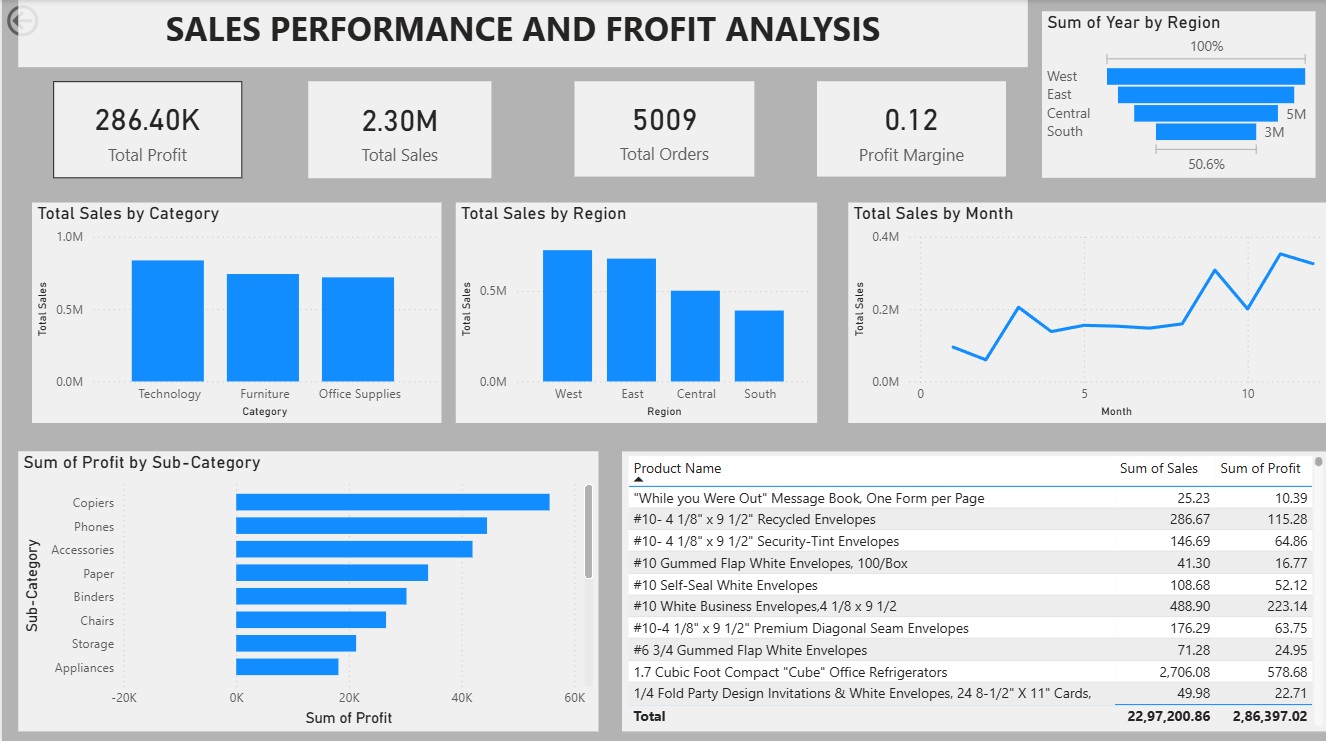

The dashboard page shown, as its layout file describes it:
{"tool":"powerbi","page":{"name":"Page 1","canvas":[1280,720],"ordinal":0},"visuals":[{"type":"actionButton","box":[0,0,100,40],"z":0},{"type":"card","fields":{"Values":["Sum(cleaned_superstore.Profit)"]},"box":[49.4,78.2,182.5,93.3],"z":1000},{"type":"card","fields":{"Values":["cleaned_superstore.Profit Margine"]},"box":[786.3,78.2,182.5,91.9],"z":2000},{"type":"card","fields":{"Values":["cleaned_superstore.Total Sales"]},"box":[295,78.2,177,93.3],"z":3000},{"type":"card","fields":{"Values":["cleaned_superstore.Total Orders"]},"box":[552.5,78.4,173.7,91.7],"z":4000},{"type":"lineChart","fields":{"Category":["cleaned_superstore.Month"],"Y":["cleaned_superstore.Total Sales"]},"box":[816.5,194.9,463.8,212.7],"z":5000},{"type":"clusteredColumnChart","fields":{"Y":["cleaned_superstore.Total Sales"],"Category":["cleaned_superstore.Category"]},"box":[28.8,194.9,395.2,212.7],"z":6000},{"type":"clusteredBarChart","fields":{"Category":["cleaned_superstore.Sub-Category"],"Y":["Sum(cleaned_superstore.Profit)"]},"box":[15.1,435,559.9,270.3],"z":7000},{"type":"clusteredColumnChart","fields":{"Category":["cleaned_superstore.Region"],"Y":["cleaned_superstore.Total Sales"]},"box":[437.7,194.9,348.5,212.7],"z":8000},{"type":"tableEx","fields":{"Values":["cleaned_superstore.Product Name","Sum(cleaned_superstore.Sales)","Sum(cleaned_superstore.Profit)"]},"box":[598.3,435,682,270.3],"z":9000},{"type":"funnel","fields":{"Y":["Sum(cleaned_superstore.Year)"],"Category":["cleaned_superstore.Region","cleaned_superstore.Category"]},"box":[1003.8,10.9,264.2,160.5],"z":10000},{"type":"textbox","box":[15.1,0,974.3,64.5],"z":11000}]}

Visuals, with their boxes in screenshot pixels (x1, y1, x2, y2), scaled from the page's 1280x720 canvas onto the 1326x741 screenshot:
actionButton: region(0, 0, 104, 41)
card - Sum(cleaned_superstore.Profit): region(51, 80, 240, 177)
card - cleaned_superstore.Profit Margine: region(815, 80, 1004, 175)
card - cleaned_superstore.Total Sales: region(306, 80, 489, 177)
card - cleaned_superstore.Total Orders: region(572, 81, 752, 175)
lineChart - cleaned_superstore.Month x cleaned_superstore.Total Sales: region(846, 201, 1325, 419)
clusteredColumnChart - cleaned_superstore.Total Sales x cleaned_superstore.Category: region(30, 201, 439, 419)
clusteredBarChart - cleaned_superstore.Sub-Category x Sum(cleaned_superstore.Profit): region(16, 448, 596, 726)
clusteredColumnChart - cleaned_superstore.Region x cleaned_superstore.Total Sales: region(453, 201, 814, 419)
tableEx - cleaned_superstore.Product Name x Sum(cleaned_superstore.Sales): region(620, 448, 1325, 726)
funnel - Sum(cleaned_superstore.Year) x cleaned_superstore.Region: region(1040, 11, 1314, 176)
textbox: region(16, 0, 1025, 66)
